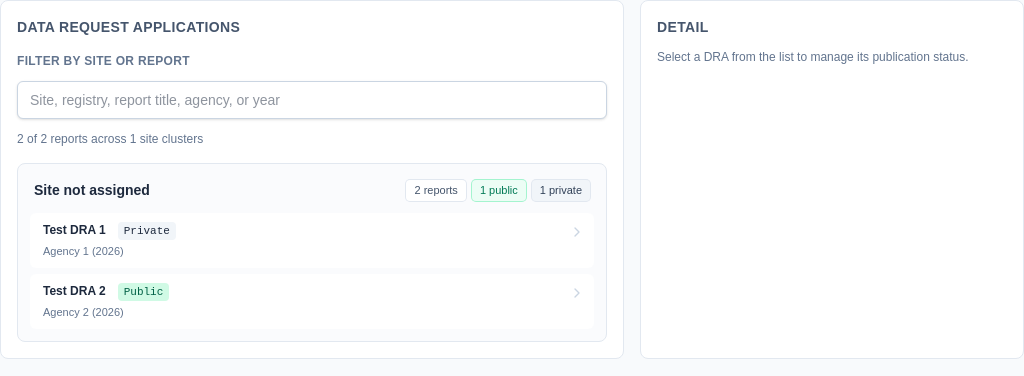
DraPublishControl › shows current public/private state and offers Unpublish for a public DRA
Select the second (public) row
Click the button with test id "dra-row-22222222-2222-4222-8222-222222222222".
click(74, 291)  # box 30,274 -> 594,329
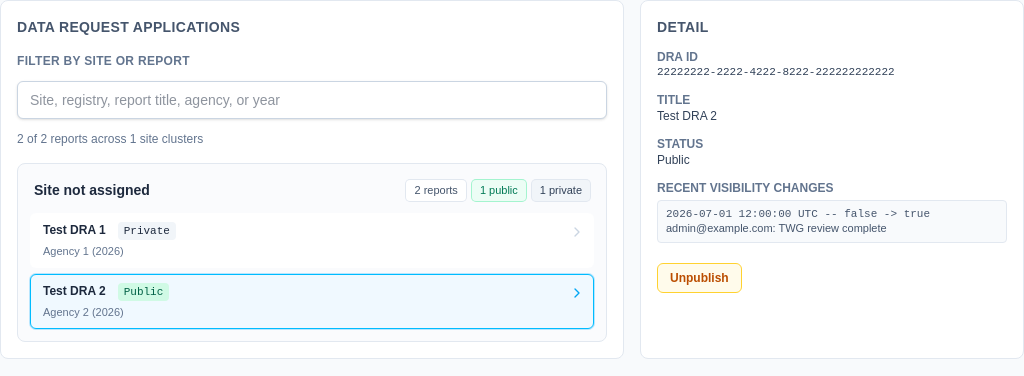
Expected: the text "Status" is shown, 657,137 -> 703,151
Expected: the list with test id "dra-audit-history-list" is shown, 657,200 -> 1007,243
Expected: the button "Unpublish" is shown, 657,263 -> 742,293
